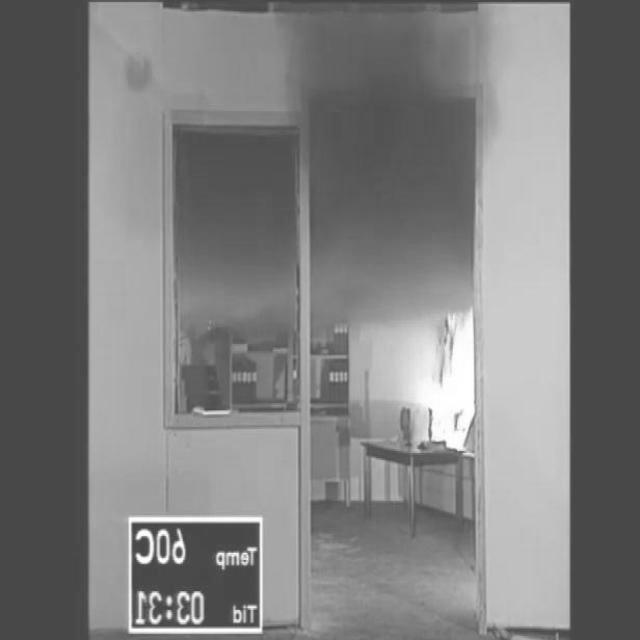fire: (310, 5, 480, 322), (180, 138, 294, 340)
smoke: (424, 306, 474, 456)
